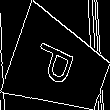P_E: (33, 40, 85, 93)
